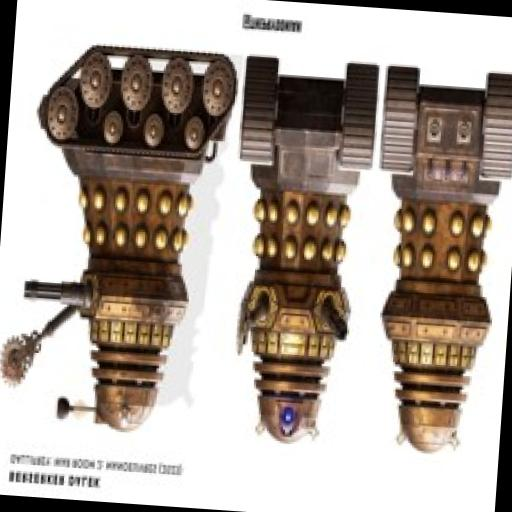dalek: (0, 34, 239, 440), (218, 56, 380, 450), (358, 65, 512, 461)
